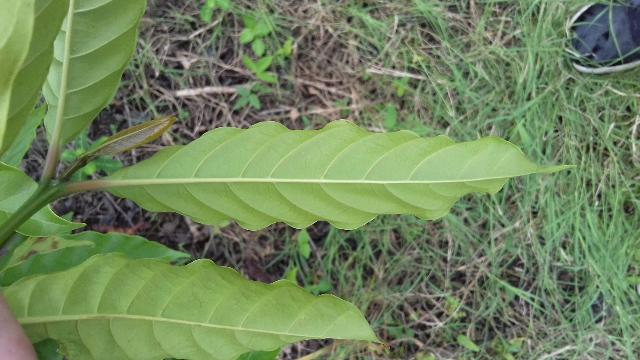healthy: (103, 113, 583, 235)
